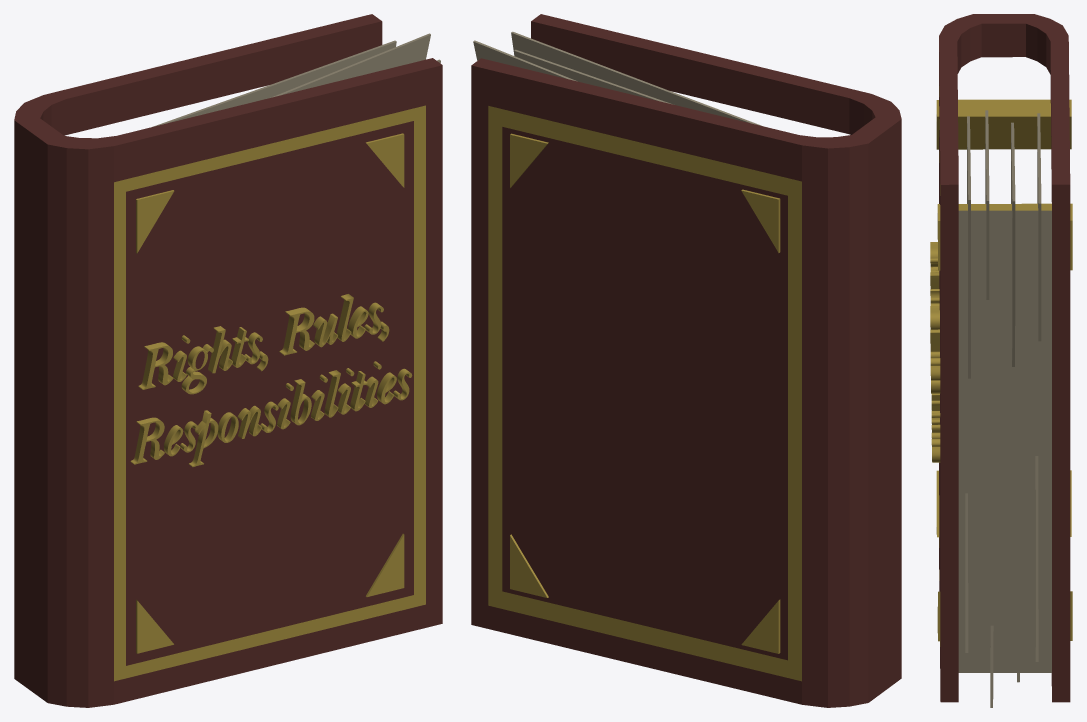
3 views of the same model, side by side, from view 1: azimuth 30°, elevation 25°; view 2: azimuth 150°, elevation 25°; view 3: azimuth 270°, elevation 25° (orthographic). The views are drawn at different scales.
Visible parts, largest first — view 1: Book2_Closed, Text; view 2: Book2_Closed; view 3: Book2_Closed, Text.
Boxes of the visible parts, bbox=[...] form: Book2_Closed: bbox=[14, 14, 442, 707]; Text: bbox=[130, 294, 412, 466]; Book2_Closed: bbox=[471, 14, 901, 707]; Book2_Closed: bbox=[936, 14, 1072, 707]; Text: bbox=[930, 242, 940, 462].
Size of the model in its own units: 1.58 by 2.11 by 0.5193.
